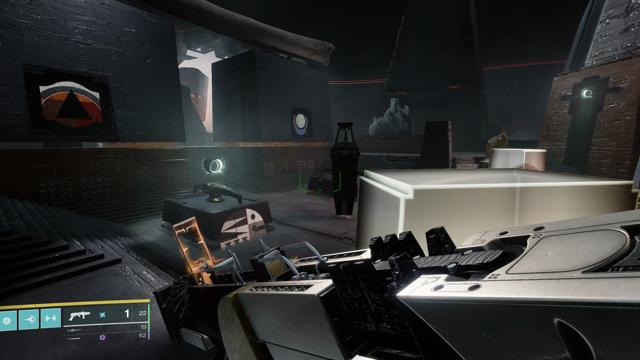pyramid: (39, 81, 103, 128)
traveler: (292, 113, 308, 136)
